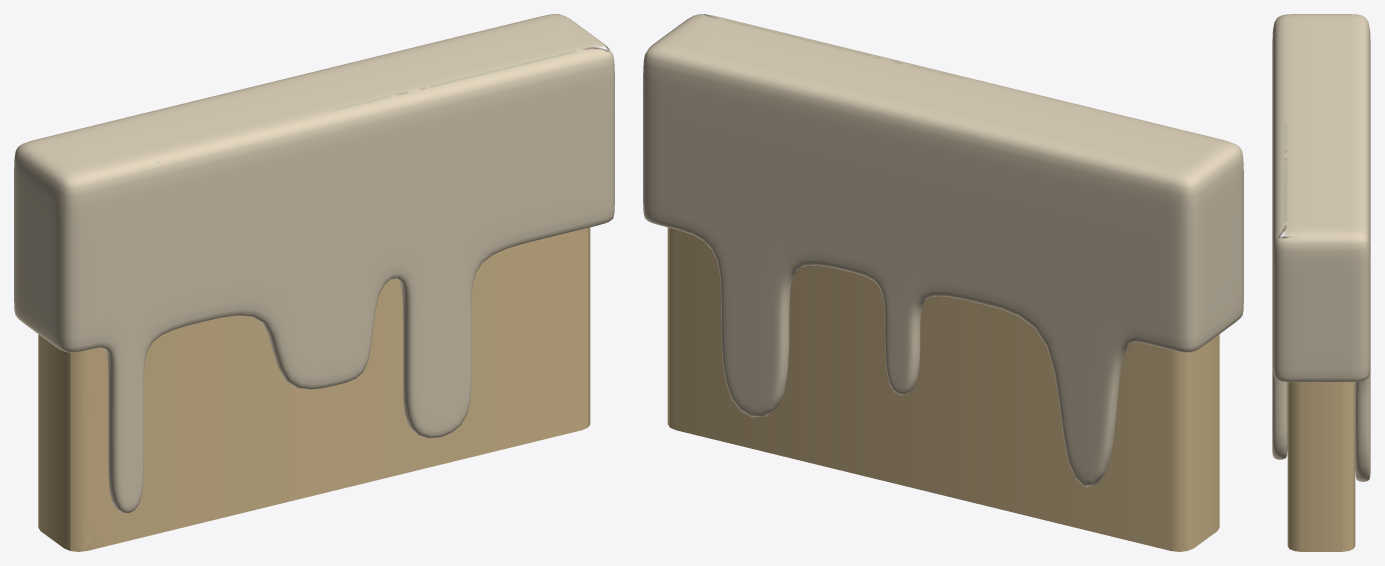
Rendered from chocowall.fbx.
3 renders of one model, left to right at view 1: azimuth 30°, elevation 25°; view 2: azimuth 150°, elevation 25°; view 3: azimuth 270°, elevation 25°, orthographic. The views are drawn at different scales.
Parts seen in each view (by area): view 1: Wall_Cover, Wall_Base; view 2: Wall_Cover, Wall_Base; view 3: Wall_Cover, Wall_Base.
Part boxes in pixels (x1,y1,x2,y2): Wall_Cover: [14, 14, 614, 513]; Wall_Base: [38, 227, 590, 551]; Wall_Cover: [643, 14, 1243, 487]; Wall_Base: [667, 227, 1219, 551]; Wall_Cover: [1272, 14, 1370, 481]; Wall_Base: [1287, 382, 1355, 551].
Bounding box in the file's own units: 3.18 × 2.09 × 0.58.
